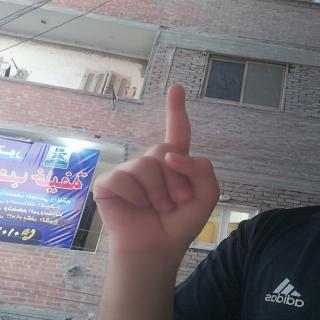BAA: (82, 75, 226, 264)
